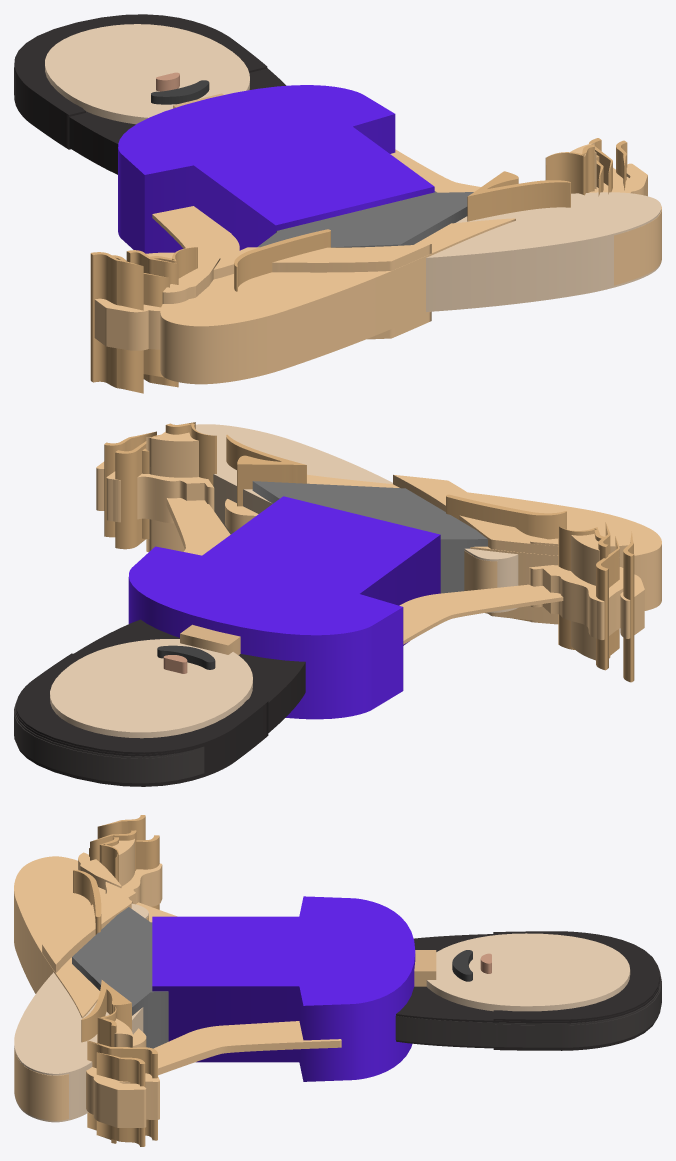
The model's file is emoji_u1f9d8_1f3fb_200d_2640.glb.
3 views of the same model, one above another, from view 1: azimuth 30°, elevation 25°; view 2: azimuth 150°, elevation 25°; view 3: azimuth 270°, elevation 25° (orthographic). The views are drawn at different scales.
Visible parts, largest first — view 1: emoji_u1f9d8_1f3fb_200d_2640; view 2: emoji_u1f9d8_1f3fb_200d_2640; view 3: emoji_u1f9d8_1f3fb_200d_2640.
Part boxes in pixels (left/top/right/bottom): emoji_u1f9d8_1f3fb_200d_2640: left=14, top=14, right=661, bottom=393; emoji_u1f9d8_1f3fb_200d_2640: left=14, top=422, right=661, bottom=786; emoji_u1f9d8_1f3fb_200d_2640: left=14, top=815, right=661, bottom=1146.
Size of the model in its own units: 0.0294 by 0.0068 by 0.034.
